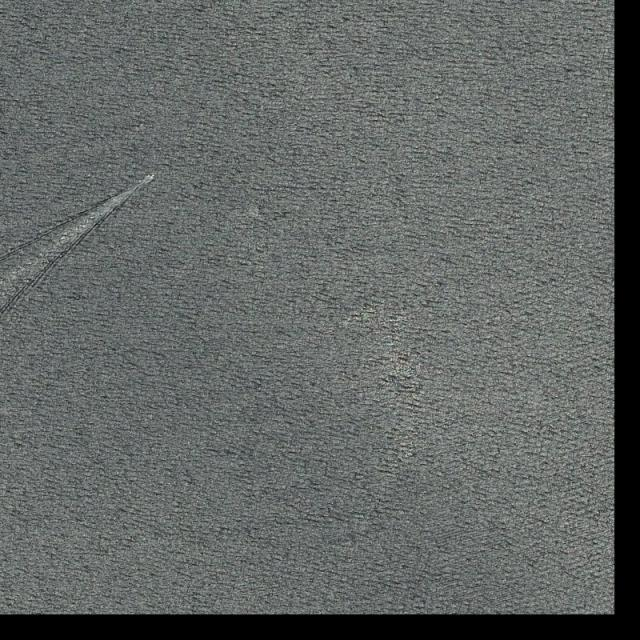ship: (150, 174, 156, 179)
